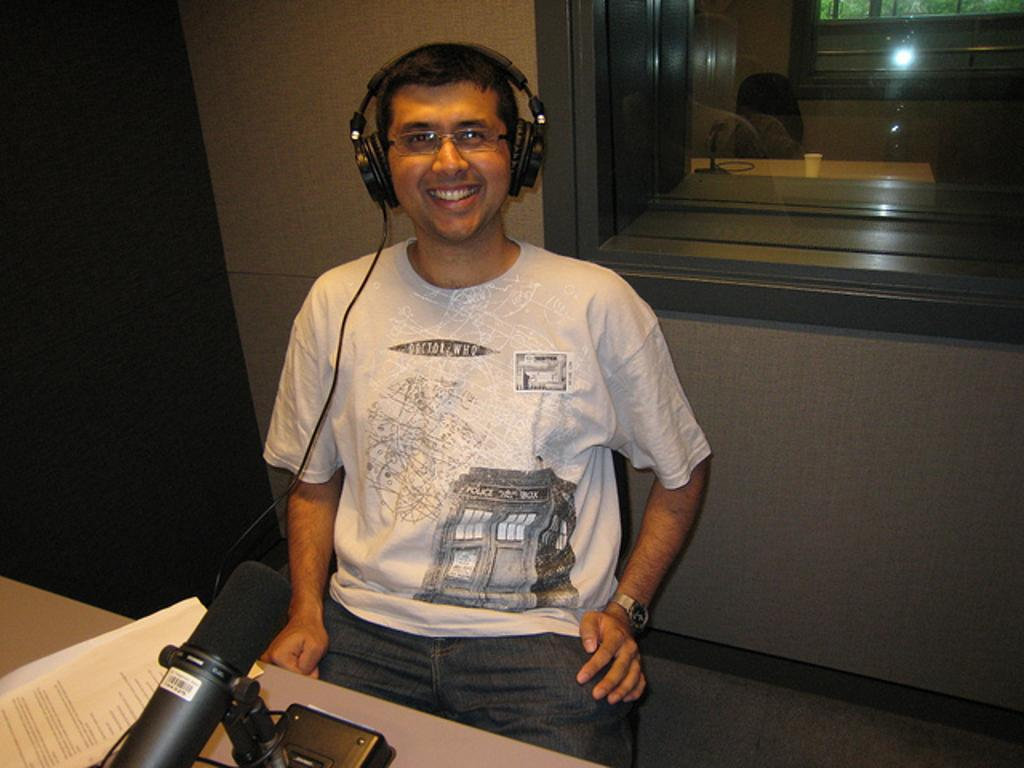face: (391, 77, 507, 239)
